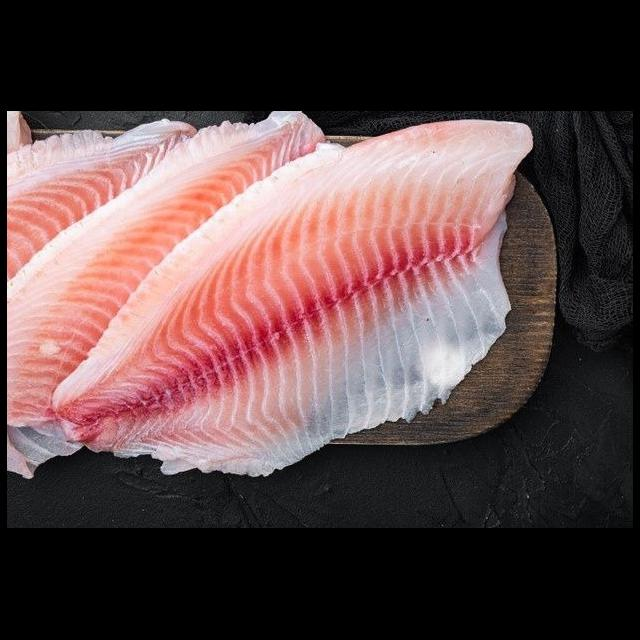fish: (38, 112, 551, 483)
